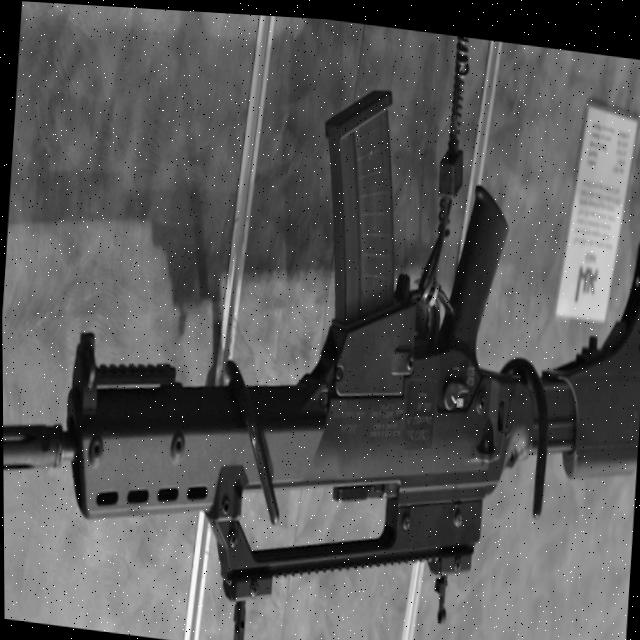firearm: (0, 36, 640, 640)
